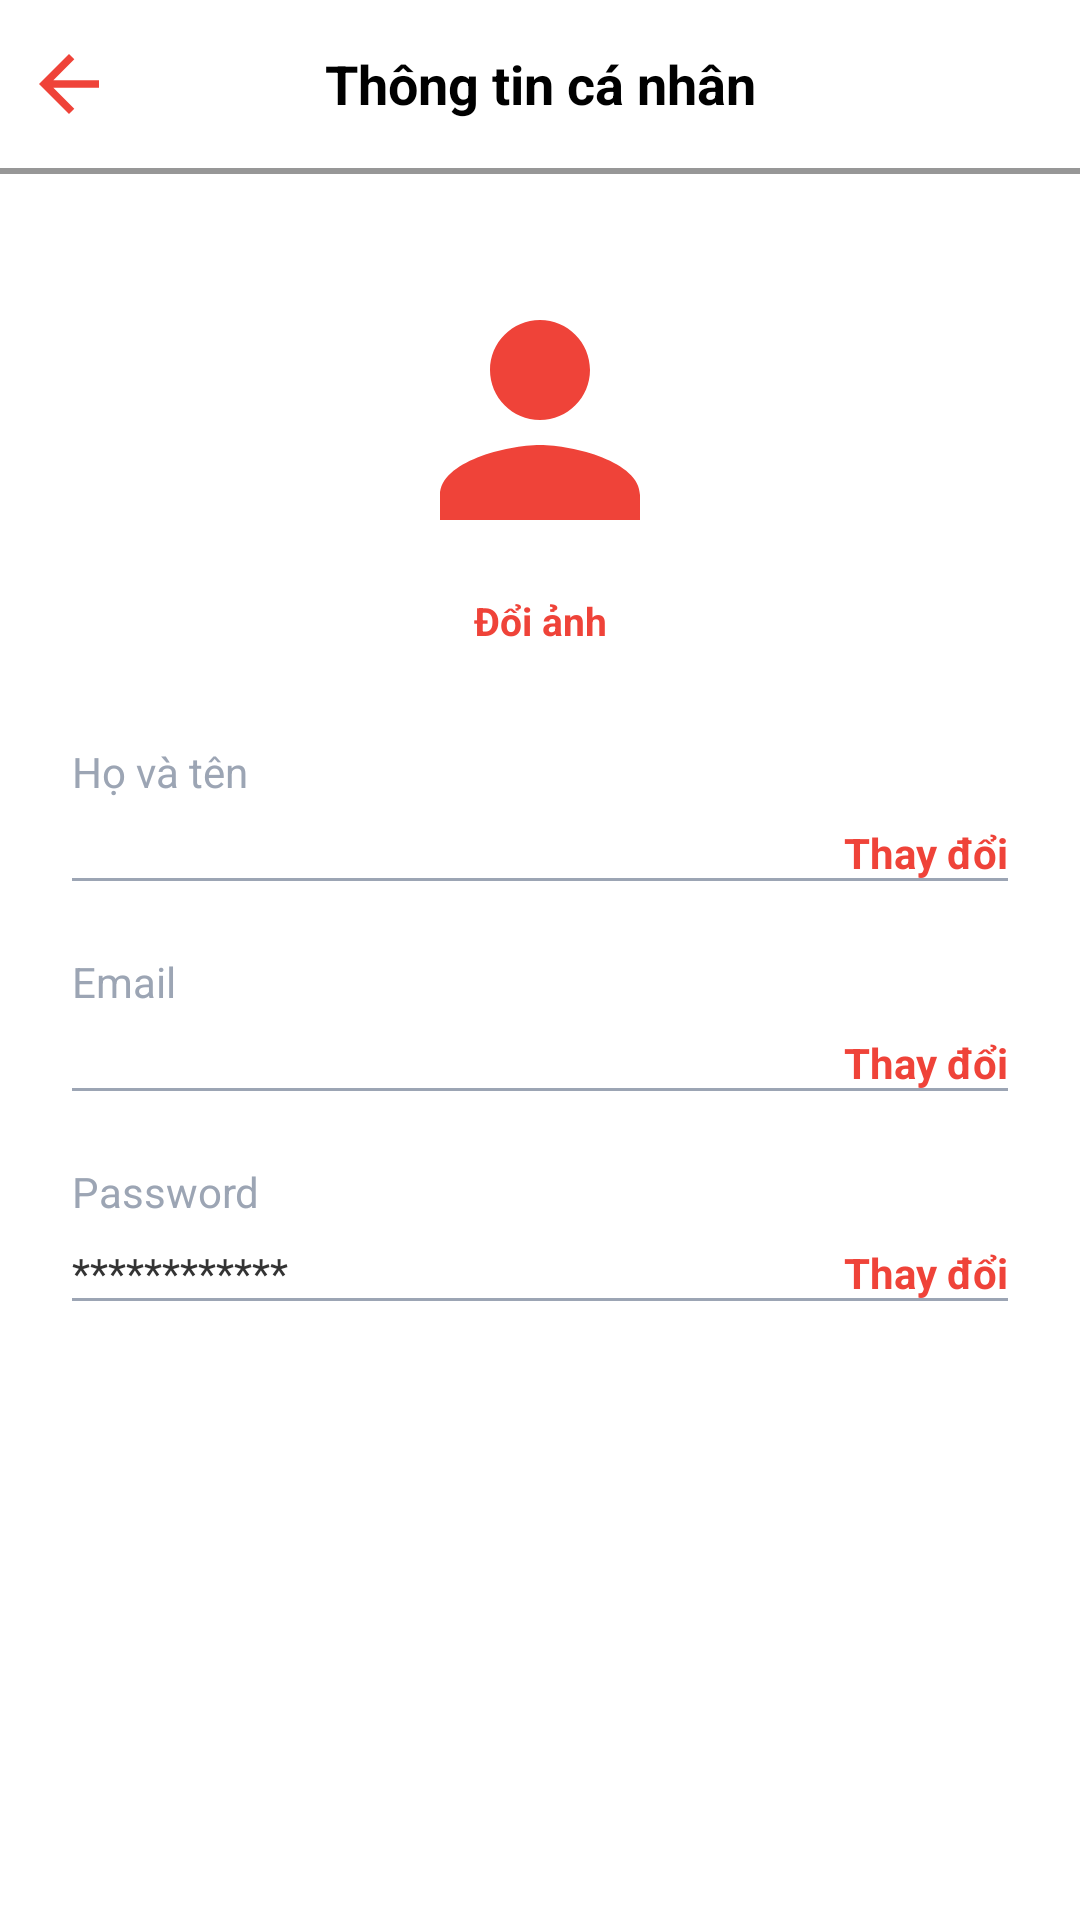

Icons on this 1080 × 1920 Android screen, each with the point to tap as [x,y]:
back: [69,84]
person: [540,420]
